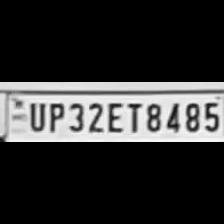2: (84, 99, 104, 133)
3: (65, 99, 84, 133)
4: (162, 99, 182, 133)
5: (202, 99, 220, 134)
8: (142, 99, 162, 133), (182, 99, 200, 133)
E: (104, 100, 124, 134)
P: (45, 99, 65, 133)
T: (124, 99, 142, 133)
U: (25, 100, 45, 132)
